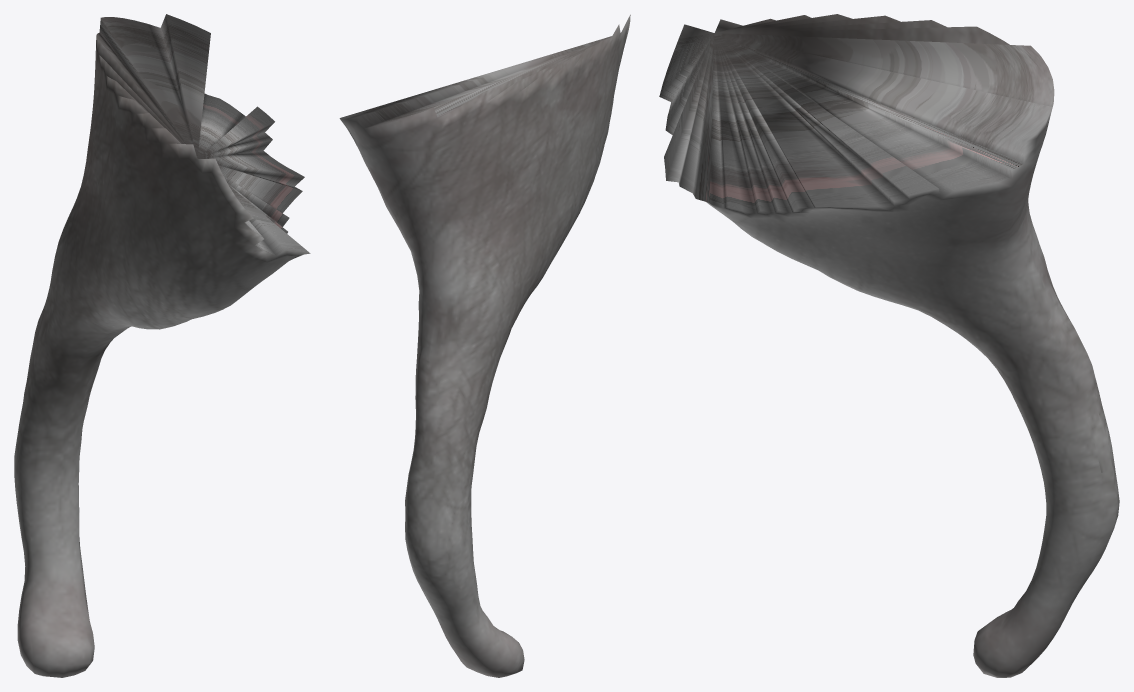
The model's file is pataT_Right.obj.
3 views of the same model, side by side, from view 1: azimuth 30°, elevation 25°; view 2: azimuth 150°, elevation 25°; view 3: azimuth 270°, elevation 25° (orthographic). The views are drawn at different scales.
Parts seen in each view (by area): view 1: pataT_Right; view 2: pataT_Right; view 3: pataT_Right.
Boxes of the visible parts, x1,y1,x2,y2 form: pataT_Right: [14, 14, 310, 677]; pataT_Right: [339, 14, 630, 677]; pataT_Right: [659, 14, 1119, 677].
Size of the model in its own units: 1.24 by 3.71 by 2.36.
Materials: 1 (1 with a texture image).
